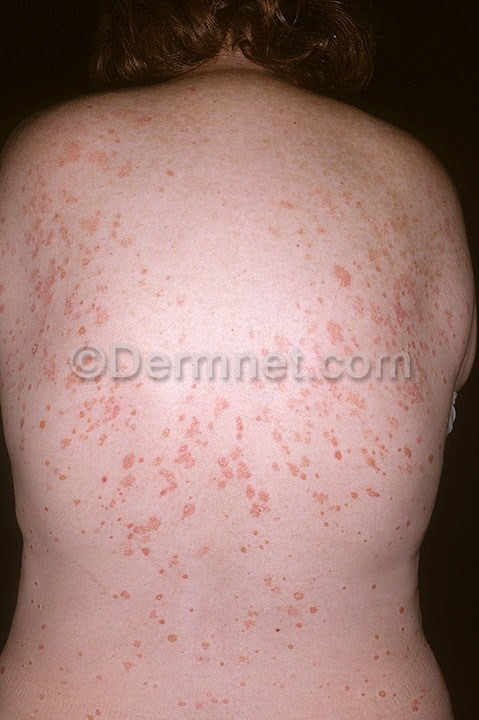Psoriasis: (14, 382, 440, 545), (10, 106, 169, 342), (274, 144, 452, 350), (232, 542, 356, 679), (113, 547, 218, 703), (368, 593, 449, 713)
